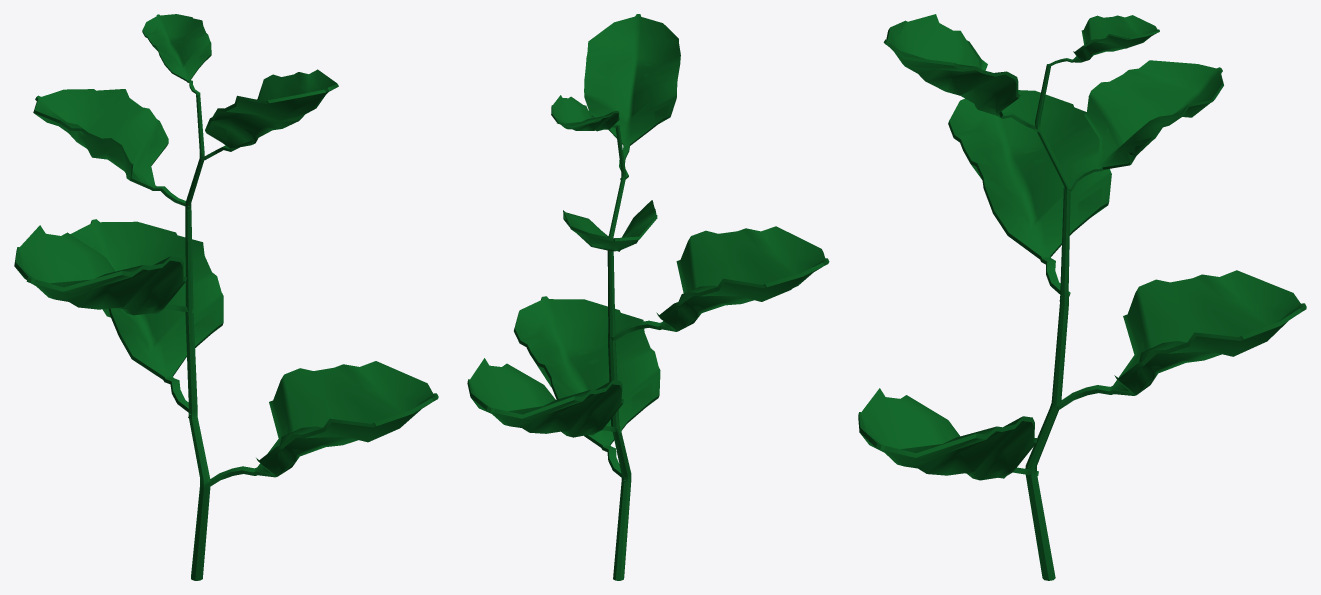
The model's file is planta.fbx.
3 views of the same model, side by side, from view 1: azimuth 30°, elevation 25°; view 2: azimuth 150°, elevation 25°; view 3: azimuth 270°, elevation 25° (orthographic). The views are drawn at different scales.
Parts seen in each view (by area): view 1: pCube7; view 2: pCube7; view 3: pCube7.
Boxes of the visible parts, x1,y1,x2,y2 form: pCube7: (14, 14, 438, 580); pCube7: (467, 14, 829, 580); pCube7: (858, 14, 1306, 580).
Bounding box in the file's own units: 9.49 × 13.18 × 9.46.
